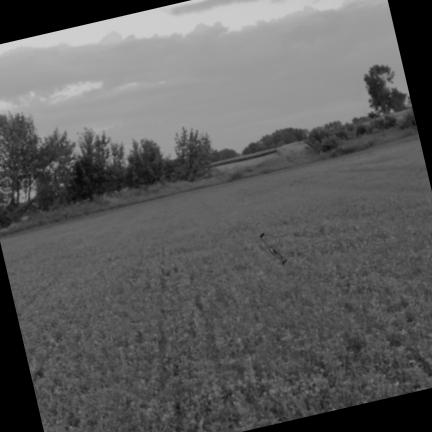Shahed: (260, 233, 285, 263)
